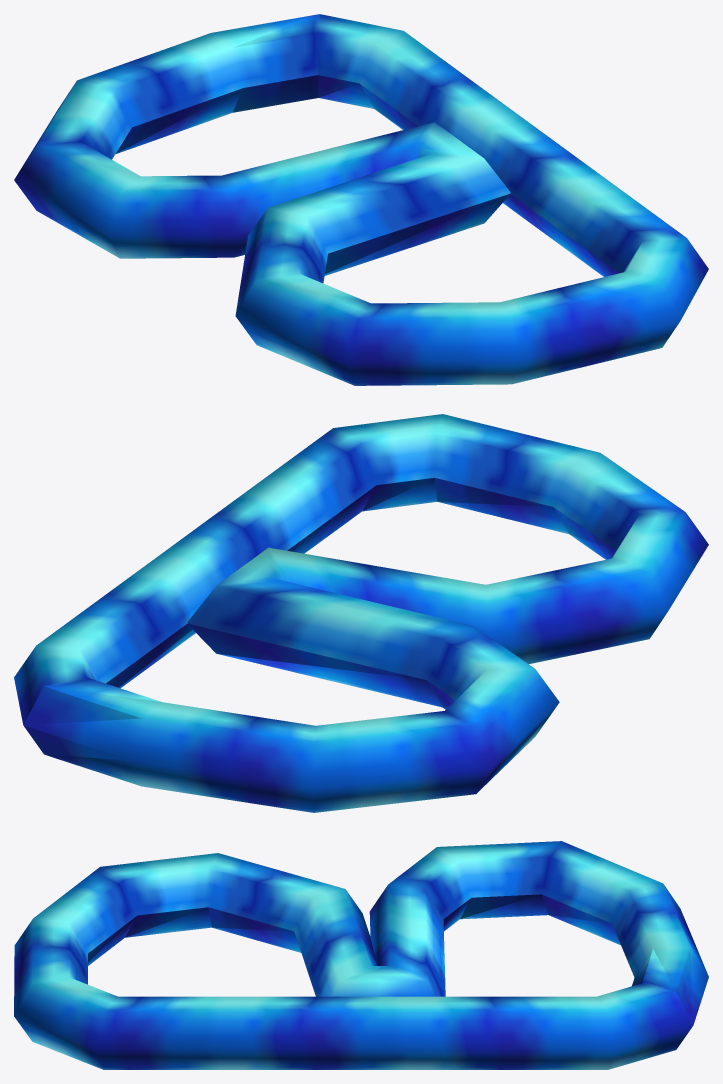
File: furni_0200449.FBX
3 renders of one model, top to bottom at view 1: azimuth 30°, elevation 25°; view 2: azimuth 150°, elevation 25°; view 3: azimuth 270°, elevation 25°, orthographic. The views are drawn at different scales.
Visible parts, largest first — view 1: furni_0200449; view 2: furni_0200449; view 3: furni_0200449.
Part boxes in pixels (<box>): furni_0200449: <box>14,14,708,385</box>; furni_0200449: <box>14,414,708,812</box>; furni_0200449: <box>14,841,708,1069</box>.
Size of the model in its own units: 35.48 by 5.11 by 55.72.
1 material, 1 textured.
